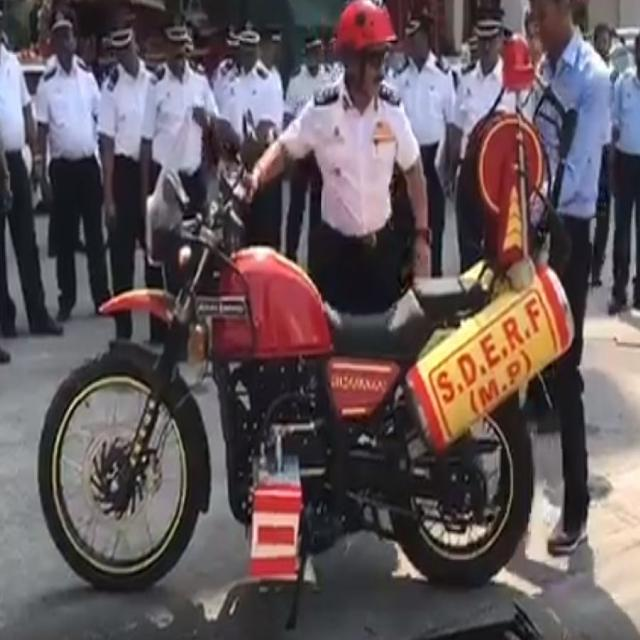motorcycle: (39, 110, 572, 626)
